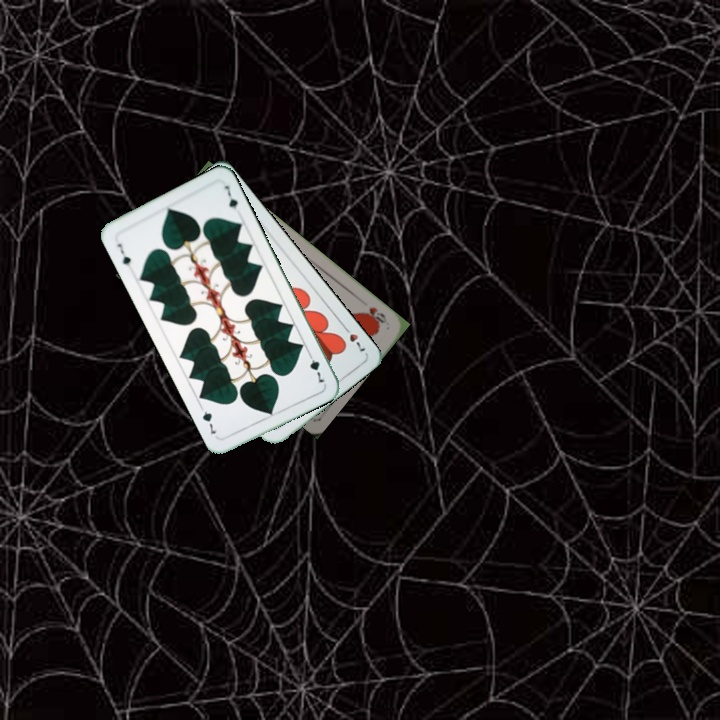G7: (304, 348, 327, 385), (113, 240, 133, 273)
H7: (339, 321, 368, 356)
HO: (359, 303, 390, 328)
